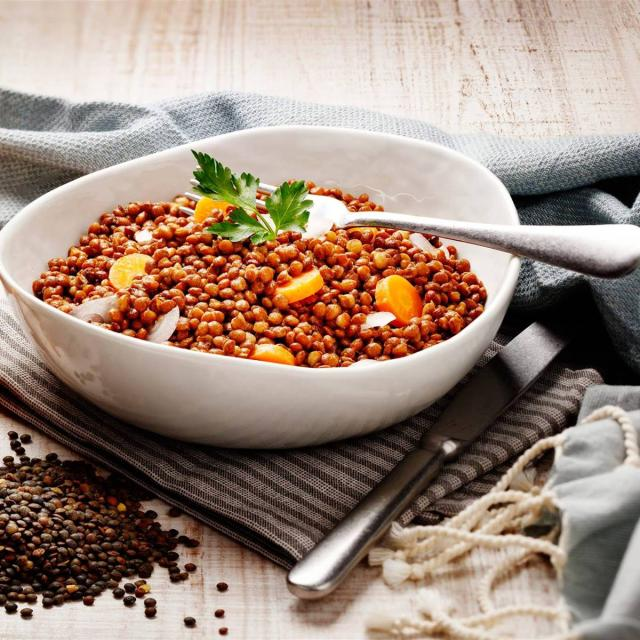lentejas: (30, 143, 495, 397)
